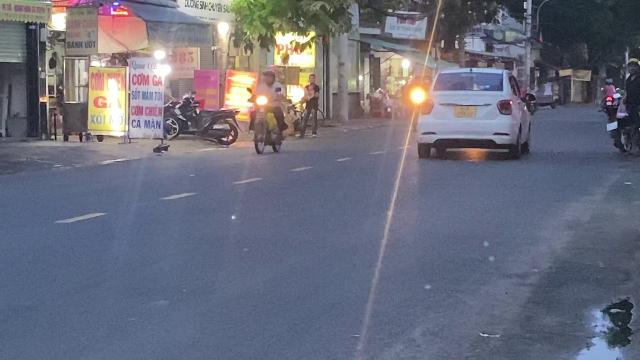helmet: (260, 67, 276, 85)
motorcyclist: (247, 66, 289, 154)
